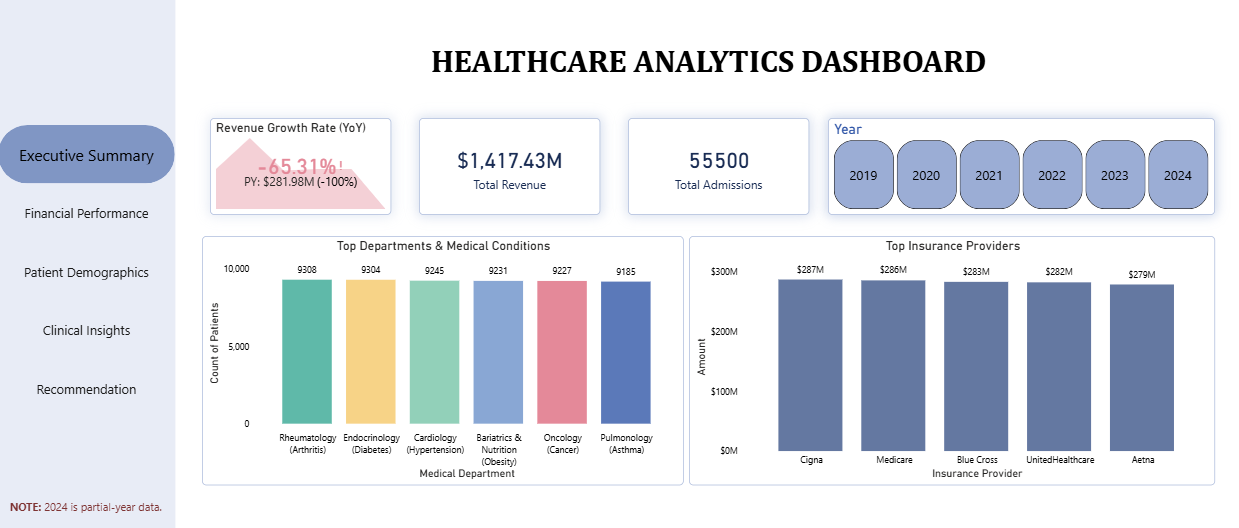

Layout of this report page (visuals, bound fields, positions):
{"tool":"powerbi","page":{"name":"Executive Summary","canvas":[1680,720],"ordinal":0},"visuals":[{"type":"group","id":"g1","title":"Group 2","box":[0,0,239.7,775],"z":0},{"type":"shape","box":[0,0,239.7,775],"z":0,"group":"g1"},{"type":"card","fields":{"Values":["_Measures.Total Billing"]},"box":[568.5,162,245.1,131],"z":1000},{"type":"pageNavigator","box":[0,172.1,239.7,395.6],"z":1000,"group":"g1"},{"type":"card","fields":{"Values":["_Measures.Total Admissions"]},"box":[851.2,162,245.1,131],"z":2000},{"type":"columnChart","title":"Top Departments & Medical Conditions","fields":{"Category":["medics_table.Medical Department"],"Y":["CountNonNull(medics_table.Index)"]},"box":[276.1,321.1,650.7,336.6],"z":3000},{"type":"textbox","box":[10.8,671.6,218.9,33.8],"z":4000},{"type":"advancedSlicerVisual","fields":{"Values":["calendar_table.Year"]},"box":[1121.6,162.2,523,131.1],"z":5000},{"type":"kpi","title":"Revenue Growth Rate (YoY)","fields":{"Indicator":["_Measures.YoY Revenue Growth %"],"TrendLine":["calendar_table.Year"],"Goal":["_Measures.Revenue PY"]},"box":[285.9,162,245.1,131],"z":6000},{"type":"columnChart","title":"Top Insurance Providers","fields":{"Category":["fact_table.Insurance Provider"],"Y":["Sum(fact_table.Billing Amount)"]},"box":[933.8,321.1,711.3,336.6],"z":7000},{"type":"textbox","box":[275.7,54.1,1368.9,63.5],"z":8000}]}

Visuals, with their boxes in screenshot pixels (x1, y1, x2, y2), scaled from the page's 1680x720 canvas onto the 1239x528 screenshot:
"Group 2" group: 0, 0, 177, 527
shape: 0, 0, 177, 527
card - _Measures.Total Billing: 419, 119, 600, 215
pageNavigator: 0, 126, 177, 416
card - _Measures.Total Admissions: 628, 119, 809, 215
"Top Departments & Medical Conditions" columnChart: 204, 235, 684, 482
textbox: 8, 493, 169, 517
advancedSlicerVisual - calendar_table.Year: 827, 119, 1213, 215
"Revenue Growth Rate (YoY)" kpi: 211, 119, 392, 215
"Top Insurance Providers" columnChart: 689, 235, 1213, 482
textbox: 203, 40, 1213, 86
